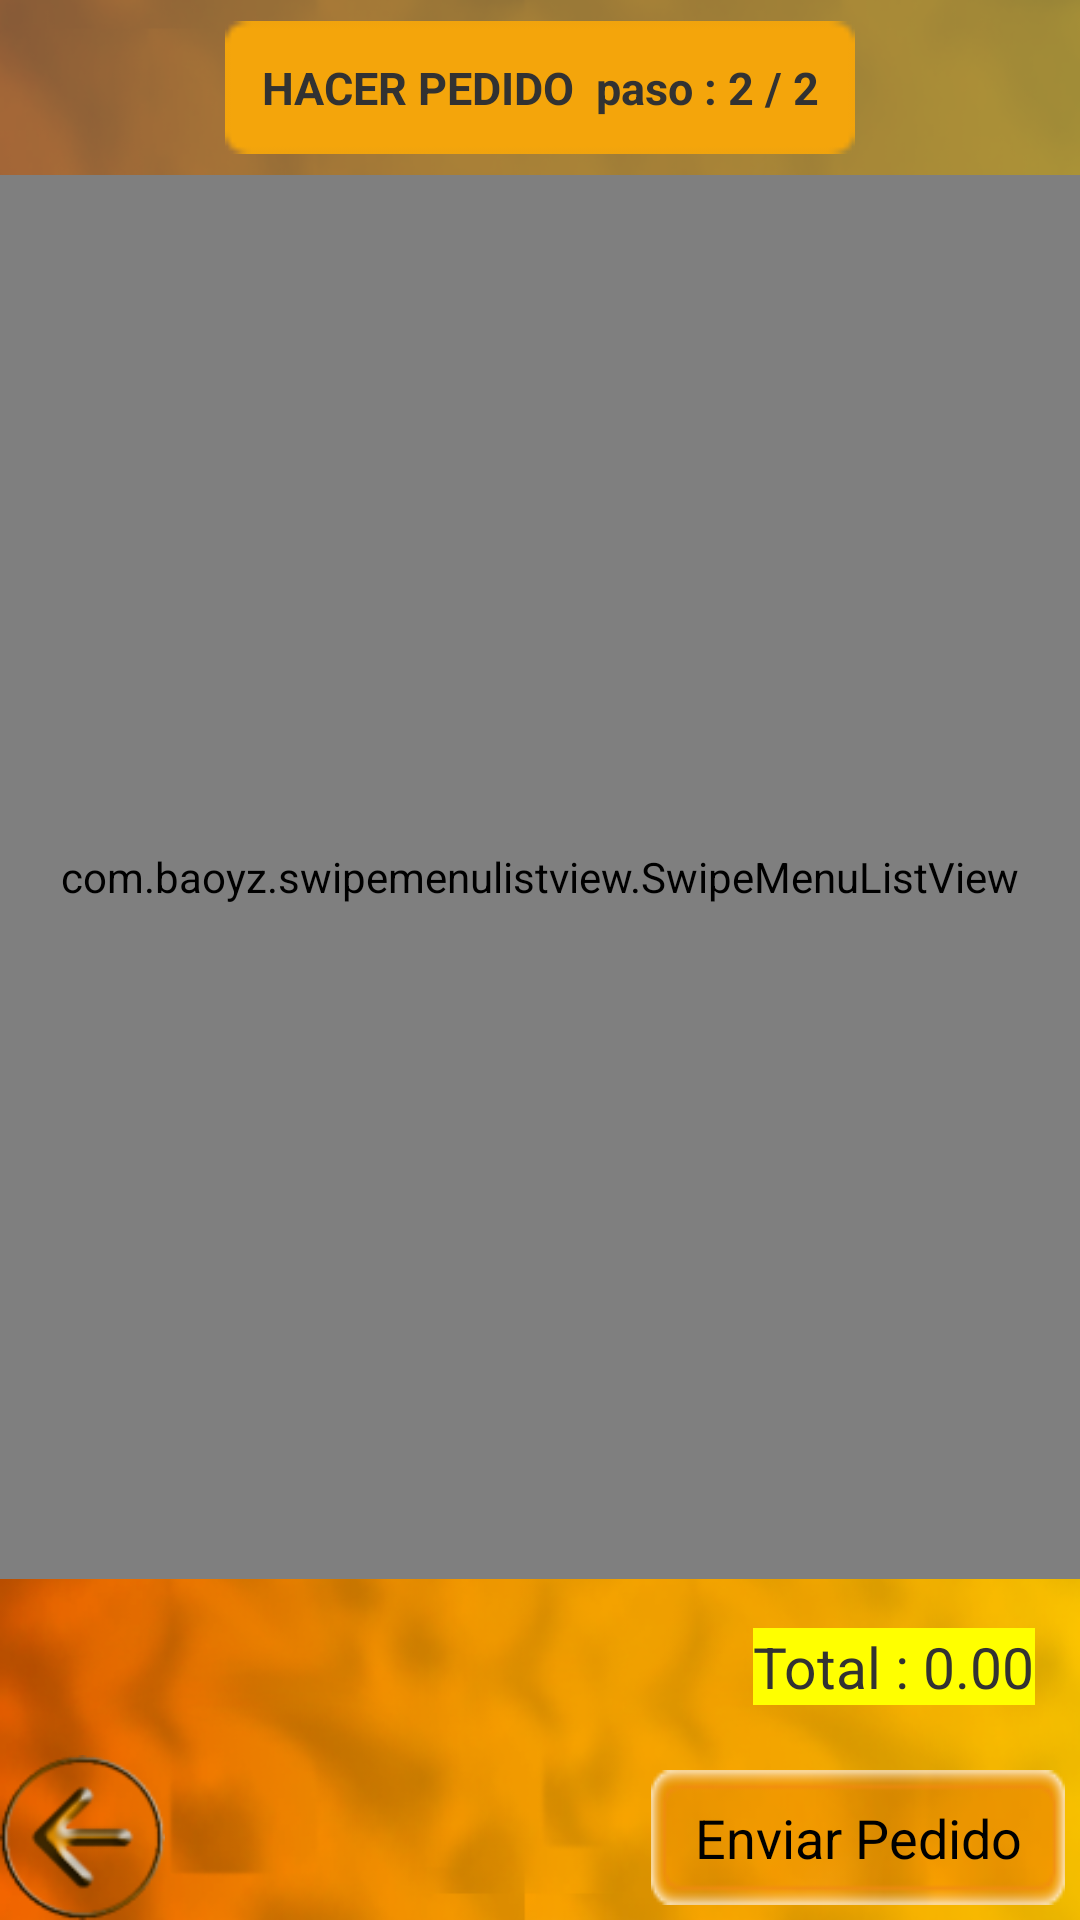

Icon bounding boxes for this 1080×1920 phone screenshot, format region(x1, y1, x2, y2):
goleft: region(0, 1755, 165, 1920)
